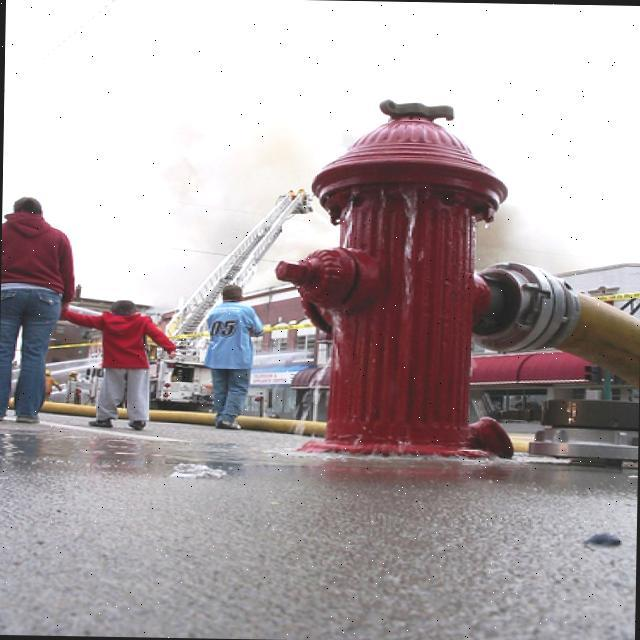fire_hydrant: (269, 97, 519, 460)
